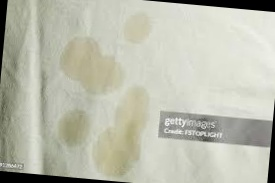oil: (96, 86, 149, 175), (61, 41, 127, 90), (54, 111, 93, 141), (120, 9, 152, 43)
